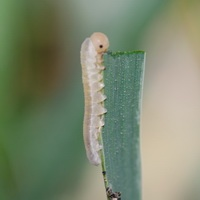insect: (80, 32, 120, 199), (80, 32, 108, 164)
